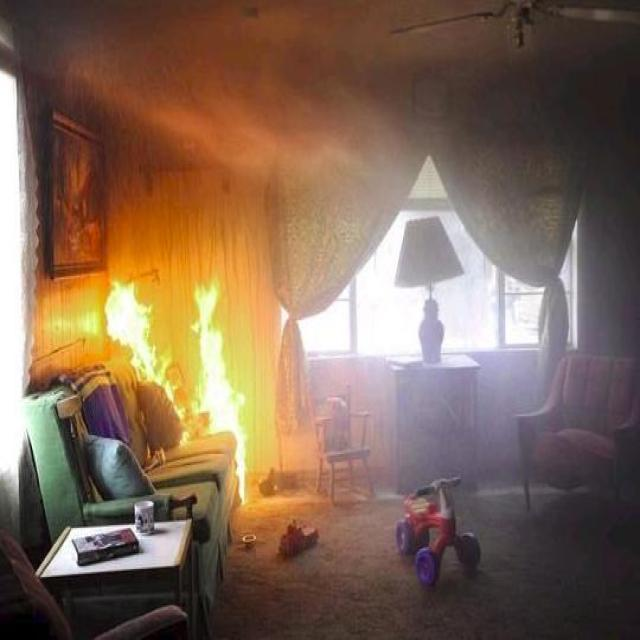Fire: (182, 265, 256, 426), (96, 268, 170, 390), (232, 451, 252, 518)
